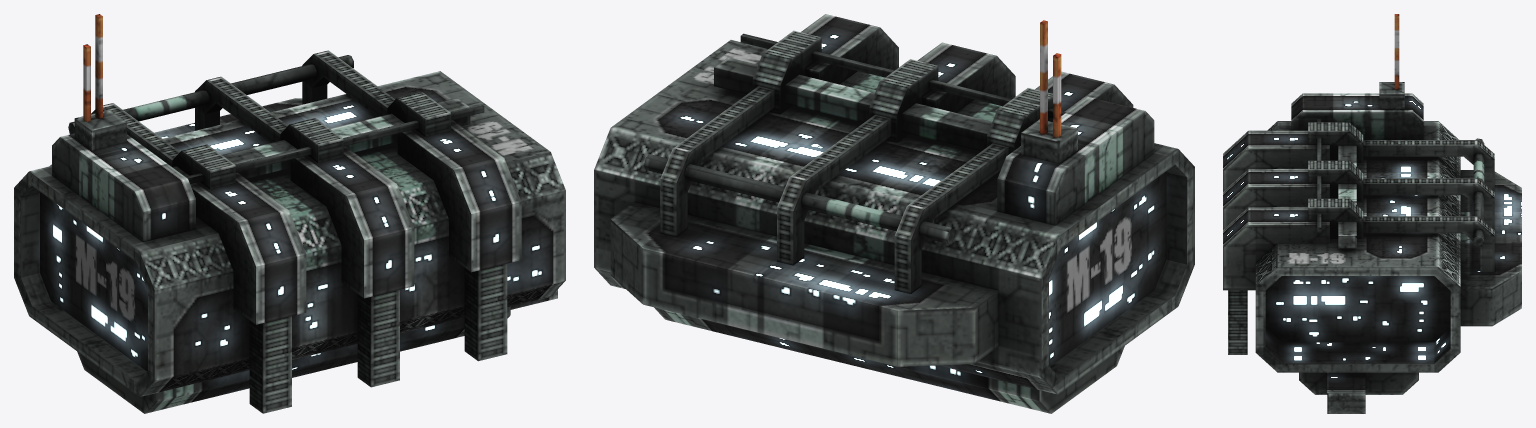
File: Space_Station4.FBX
3 renders of one model, left to right at view 1: azimuth 30°, elevation 25°; view 2: azimuth 150°, elevation 25°; view 3: azimuth 270°, elevation 25°, orthographic. The views are drawn at different scales.
Visible parts, largest first — view 1: space_station_4; view 2: space_station_4; view 3: space_station_4.
Boxes of the visible parts, <box> form: space_station_4: <box>14,14,565,413</box>; space_station_4: <box>594,14,1194,413</box>; space_station_4: <box>1223,14,1521,413</box>.
Bounding box in the file's own units: 1184 × 886 × 931.
